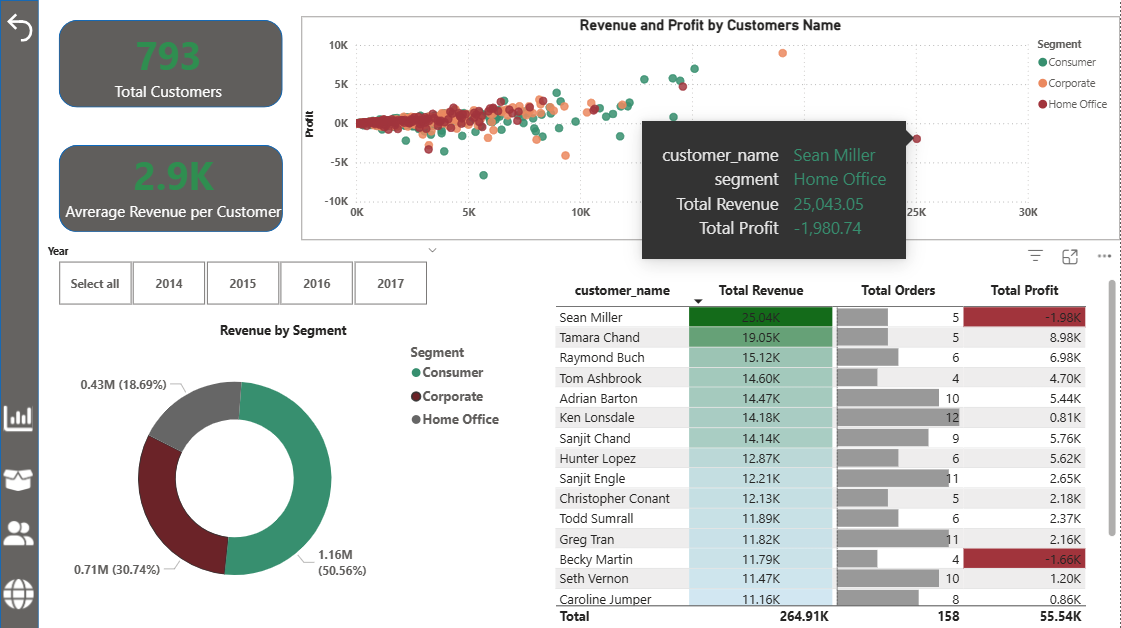

The dashboard page shown, as its layout file describes it:
{"tool":"powerbi","page":{"name":"Customer Analysis","canvas":[1280,720],"ordinal":2},"visuals":[{"type":"group","id":"g1","title":"Sidebar","box":[0,0,44.3,720],"z":0},{"type":"tableEx","fields":{"Values":["public customers.customer_name","Measure.Total Revenue","Measure.Total Orders","Measure.Total Profit"]},"box":[628.2,314.7,651.8,405.5],"z":1000},{"type":"donutChart","title":"Revenue by Segment","fields":{"Category":["public customers.segment"],"Y":["Measure.Total Revenue"]},"box":[62.2,367,521.2,339.6],"z":3000},{"type":"slicer","fields":{"Values":["DateTable.Year"]},"box":[41.1,273.7,470.2,80.9],"z":4000},{"type":"shape","box":[66.8,23,255.7,100],"z":5000},{"type":"card","title":"REVENUE","fields":{"Values":["Measure.Total Customers"]},"box":[61,18.7,262.5,109.5],"z":6000},{"type":"shape","box":[67.2,165.4,256.3,99.5],"z":7000},{"type":"card","title":"REVENUE","fields":{"Values":["Measure.Avrerage Revene per Custumer"]},"box":[67.2,155.5,262.5,109.5],"z":8000},{"type":"scatterChart","title":"Revenue and Profit by Customers Name","fields":{"Category":["public customers.customer_name"],"Series":["public customers.segment"],"X":["Measure.Total Revenue"],"Y":["Measure.Total Profit"]},"box":[344.6,18.7,935.5,255],"z":8001},{"type":"shape","box":[0,0,44.3,720],"z":9000,"group":"g1"},{"type":"actionButton","box":[0,452.2,41.4,51.4],"z":11000,"group":"g2"},{"type":"actionButton","box":[0,517.9,41.4,60],"z":12000,"group":"g2"},{"type":"actionButton","box":[0,579.5,42.6,58.6],"z":13000,"group":"g2"},{"type":"actionButton","box":[0,652.8,42.6,52.9],"z":14000,"group":"g2"},{"type":"actionButton","box":[1.4,3.6,42.9,54.3],"z":15000,"group":"g2"},{"type":"group","id":"g2","title":"Bottoms","box":[0,3.6,44.3,702.1],"z":15001,"group":"g1"}]}

Visuals, with their boxes on the page's 1280x720 design canvas (x1, y1, x2, y2). These are canvas units, not pixel positions in the 1121x628 screenshot, which may show the page scaled, cropped or inside an application window:
"Sidebar" group: [0,0,44,720]
tableEx - public customers.customer_name x Measure.Total Revenue: [628,315,1280,720]
"Revenue by Segment" donutChart: [62,367,583,707]
slicer - DateTable.Year: [41,274,511,355]
shape: [67,23,322,123]
"REVENUE" card: [61,19,324,128]
shape: [67,165,324,265]
"REVENUE" card: [67,156,330,265]
"Revenue and Profit by Customers Name" scatterChart: [345,19,1280,274]
shape: [0,0,44,720]
actionButton: [0,452,41,504]
actionButton: [0,518,41,578]
actionButton: [0,580,43,638]
actionButton: [0,653,43,706]
actionButton: [1,4,44,58]
"Bottoms" group: [0,4,44,706]
